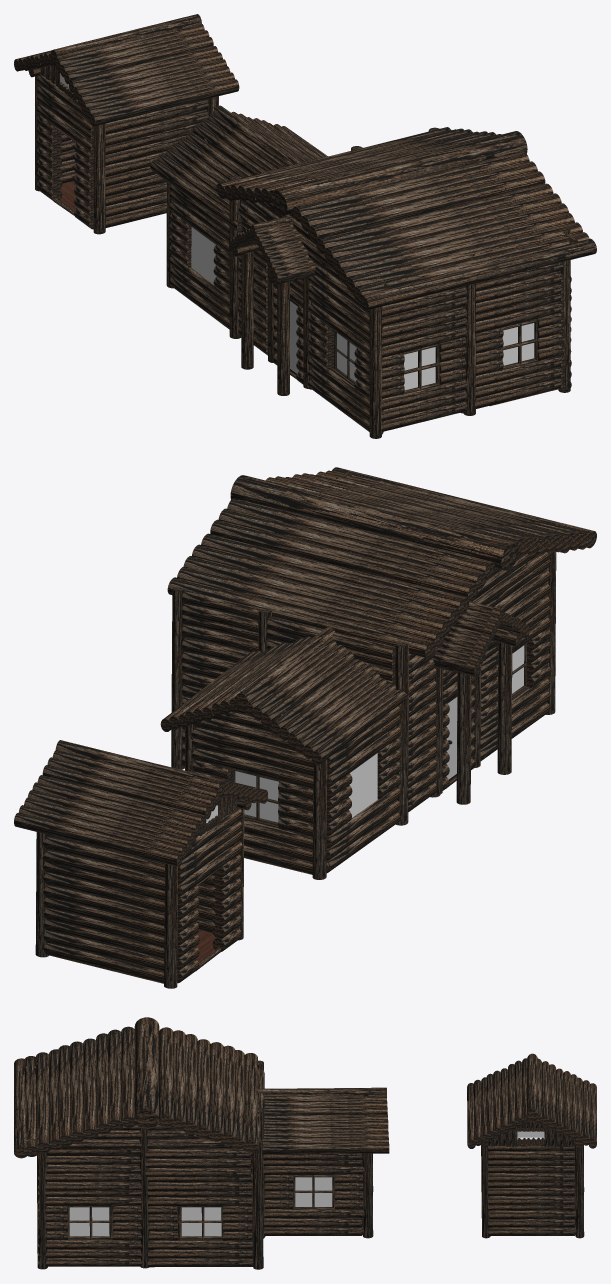
File: Log cabin.fbx
The picture shows the model from 3 angles, top to bottom: view 1: azimuth 30°, elevation 25°; view 2: azimuth 150°, elevation 25°; view 3: azimuth 270°, elevation 25°; orthographic projection. The views are drawn at different scales.
Parts seen in each view (by area): view 1: Cube; view 2: Cube; view 3: Cube.
Boxes of the visible parts, x1,y1,x2,y2 form: Cube: (14,14,596,438); Cube: (14,467,596,988); Cube: (14,1017,596,1269).
Size of the model in its own units: 1602 by 1280 by 4037.
